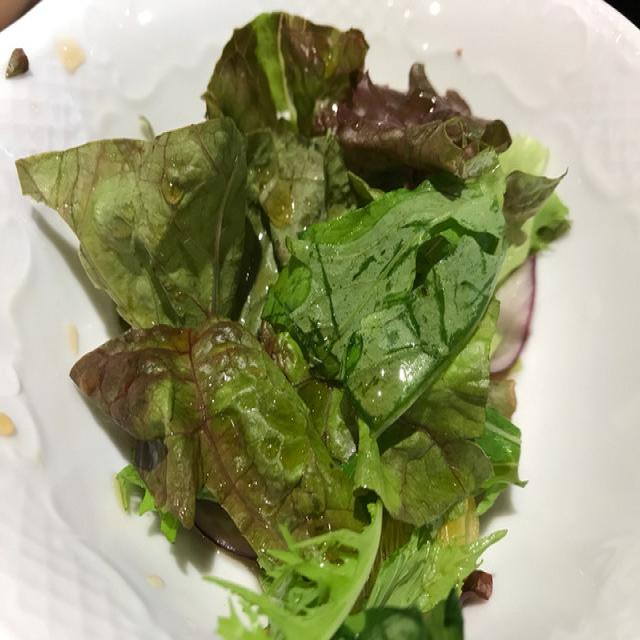rotten spinach: (270, 150, 567, 426), (66, 310, 338, 540)
